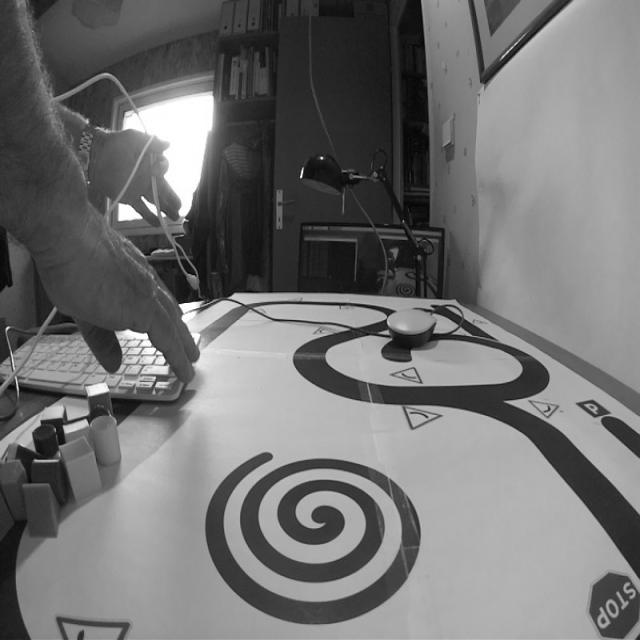nest: (199, 448, 427, 632)
